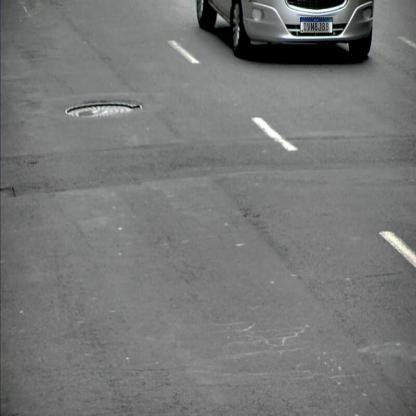PlacaM: (300, 18, 333, 34)
